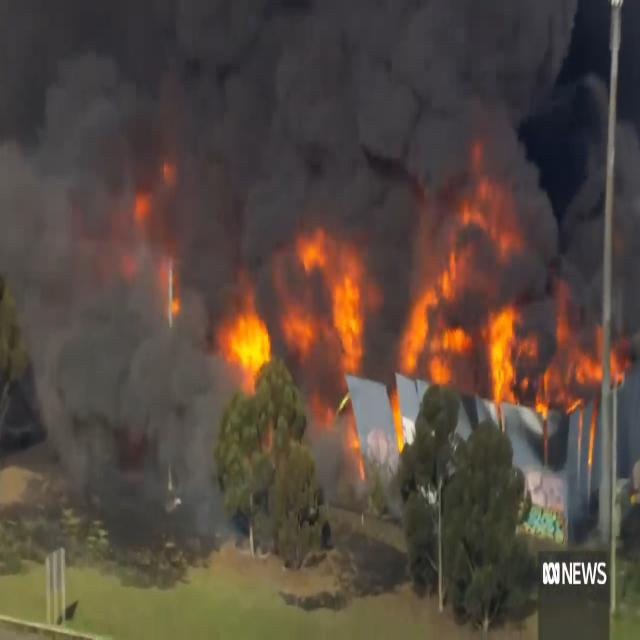fire: (395, 249, 470, 382), (218, 298, 281, 383), (332, 264, 371, 372), (449, 164, 521, 220), (480, 306, 517, 408), (583, 341, 619, 394), (289, 225, 325, 268), (286, 309, 324, 339)
